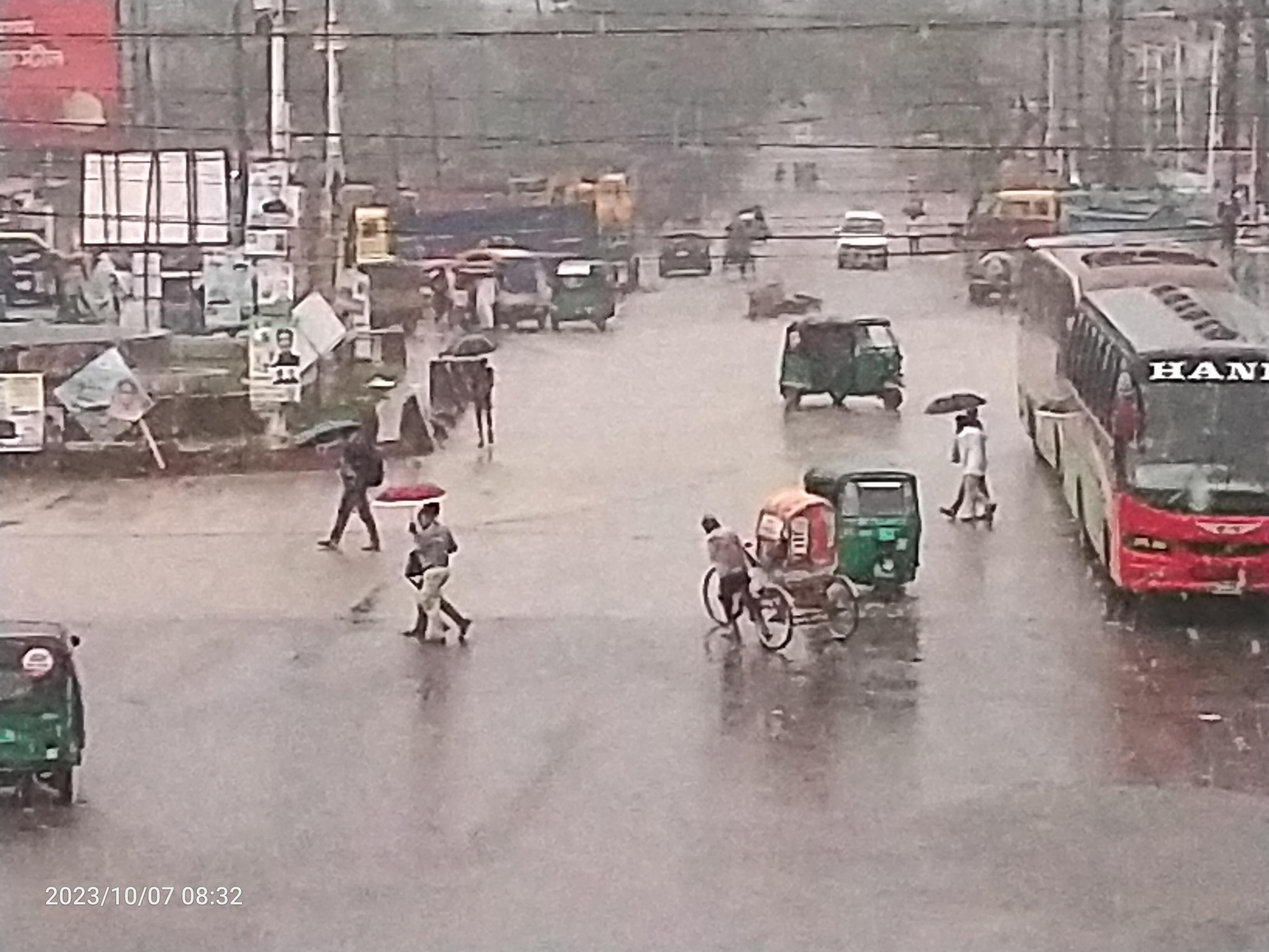Bus: (1033, 278, 1269, 627), (996, 217, 1097, 483)
Car: (680, 486, 876, 666), (438, 240, 551, 346), (819, 201, 904, 281), (637, 216, 727, 285)
Truck: (944, 163, 1261, 251), (307, 187, 604, 272)
